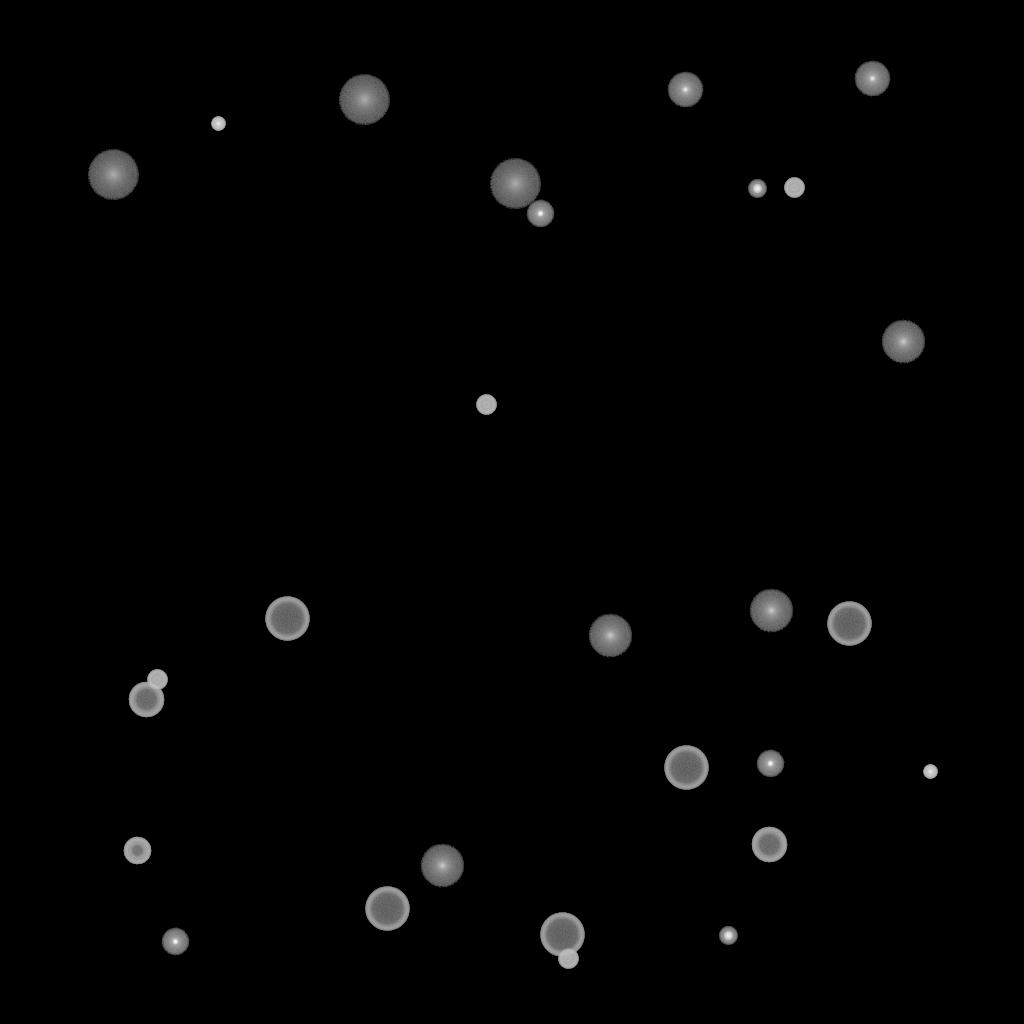depth:-10: (526, 200, 554, 228), (756, 750, 784, 778), (161, 928, 189, 956)
depth:-20: (748, 180, 766, 198), (719, 927, 737, 945)
depth:-30: (211, 117, 225, 131), (923, 765, 937, 779)
depth:-40: (558, 949, 578, 969), (784, 178, 804, 198), (476, 395, 496, 415), (147, 670, 167, 690)
depth:-50: (123, 837, 151, 865)
depth:-60: (128, 682, 164, 718), (751, 827, 787, 863)
depth:-70: (265, 597, 309, 641), (365, 887, 409, 931), (827, 602, 871, 646), (664, 746, 708, 790), (540, 913, 584, 957)
depth:0: (854, 61, 890, 97), (667, 72, 703, 108)
depth:10: (749, 589, 793, 633), (588, 614, 632, 658), (881, 320, 925, 364), (420, 844, 464, 888)
depth:20: (489, 159, 541, 209), (338, 75, 390, 125), (87, 150, 139, 200)
